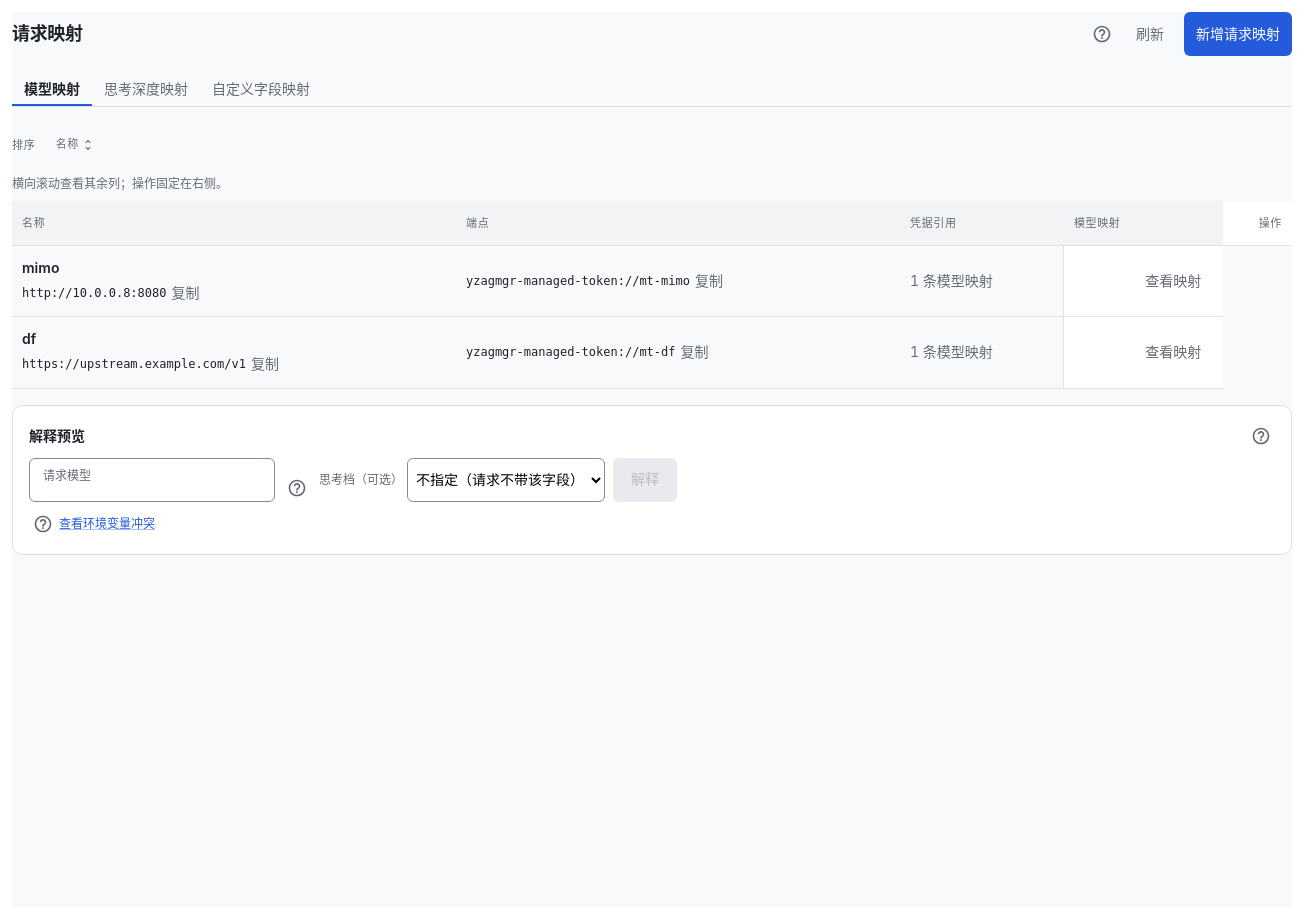
it: RouterPage 解释预览（UC-096 A1–A6） › effort 缺项（表非空无该档）→ 拒绝如实呈现（请求值/实际值/原因 + HTTP 状态）
The width and height of the screenshot is (1304, 907).
Type "mimo" into the field labelled "请求模型". click: x=152, y=479
box: x1=29 y1=461 x2=275 y2=498
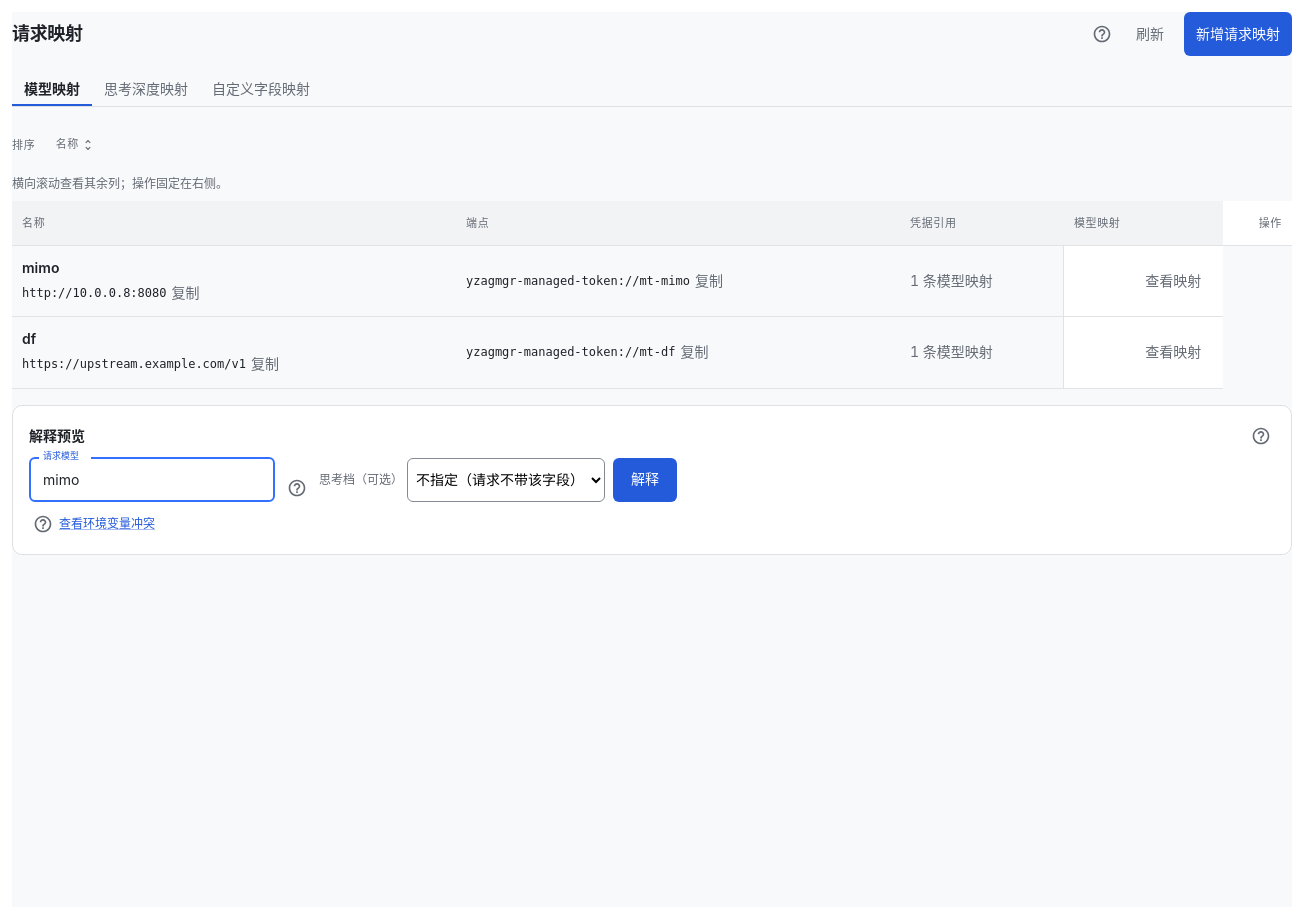
Select "low" in the dropdown labelled "思考档（可选）". click: x=506, y=480
box: x1=407 y1=458 x2=605 y2=502
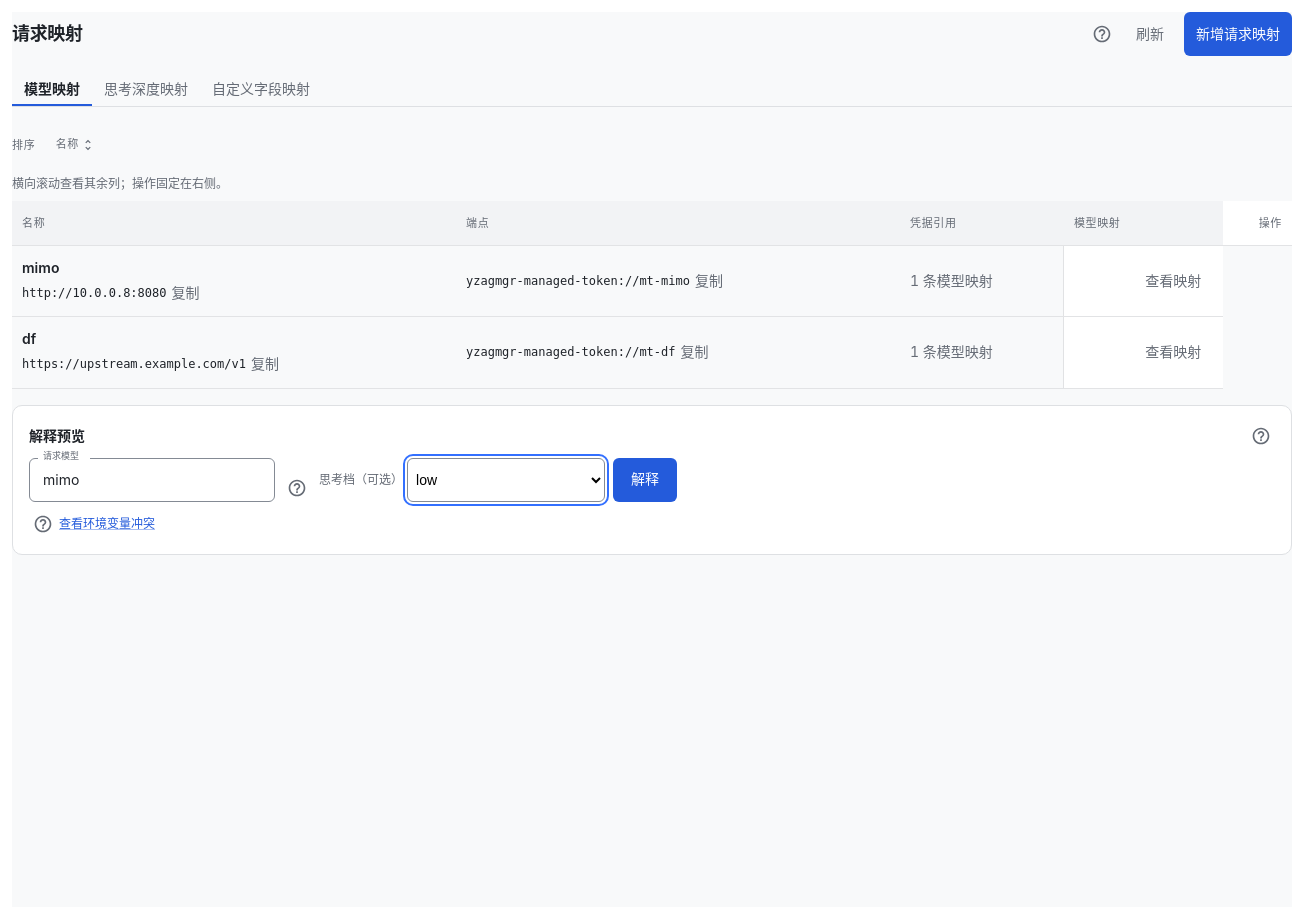
Click the button "解释". click: x=645, y=480
box: x1=613 y1=458 x2=677 y2=502
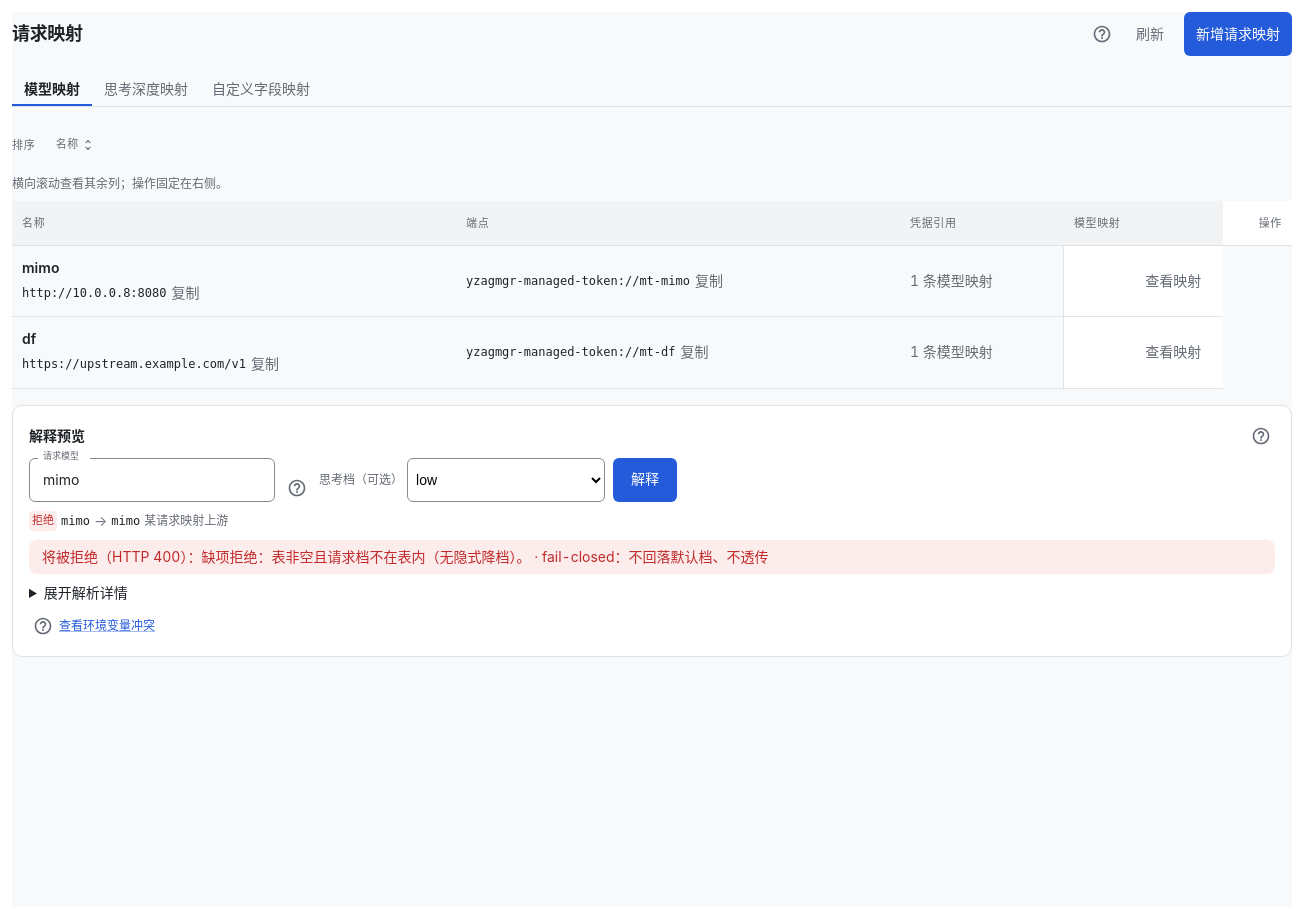
expect the heading "展开解析详情" is shown: met
Click the heading "展开解析详情". click: x=86, y=592
box: x1=44 y1=584 x2=128 y2=600
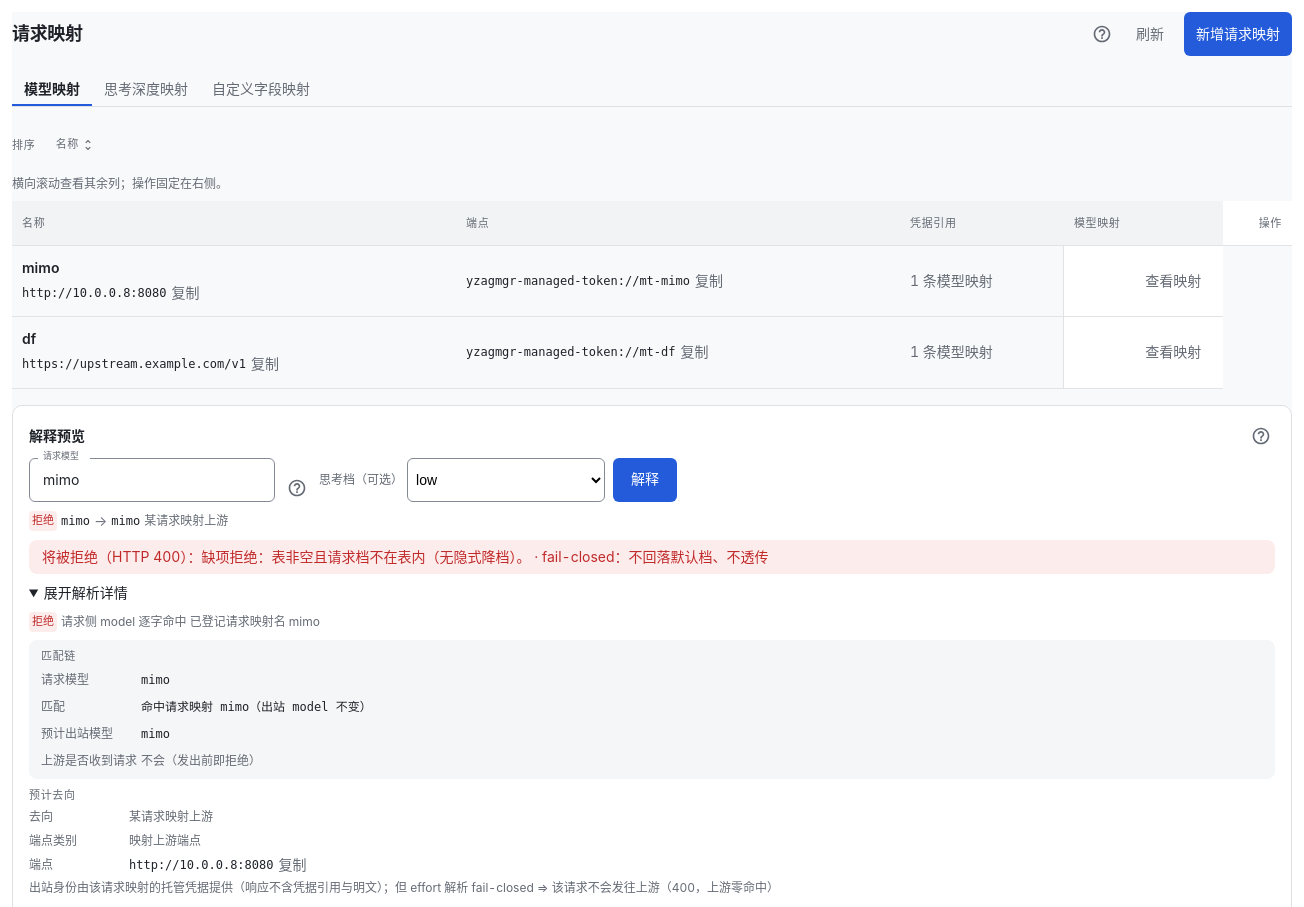
expect the text "HTTP 400" is shown: met, box x1=42 y1=548 x2=530 y2=564
expect the text "拒绝" next to "请求侧 model 逐字命中 已登记请求映射名 mimo" is shown: met, box x1=32 y1=614 x2=54 y2=628
expect the text "不会（发出前即拒绝）" is shown: met, box x1=141 y1=752 x2=261 y2=768
